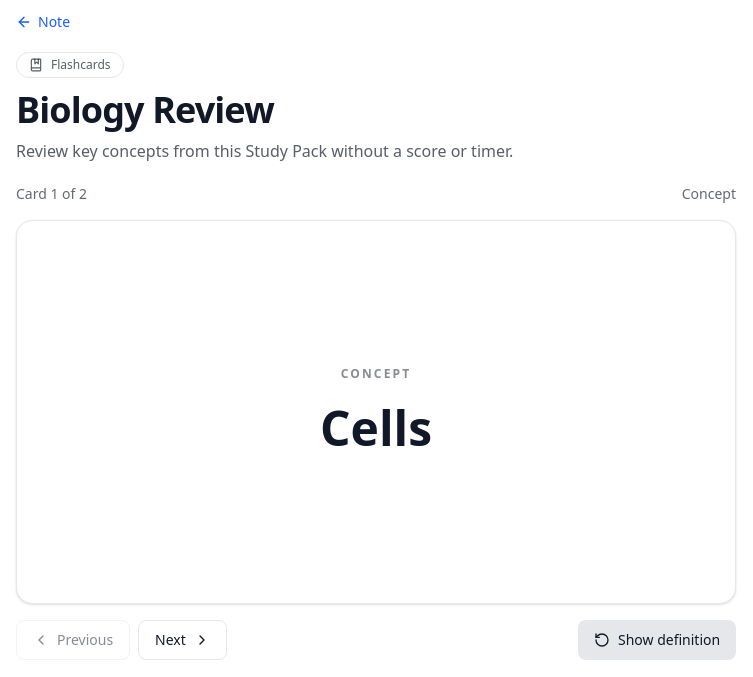
Test: FlashcardsPageClient › shows a per-card fallback when no quiz explanation matches the concept
Check: the text "Cells" is shown, box [320,398,432,458]
Click the button "Next".
click(182, 640)  # box [138,620,227,660]
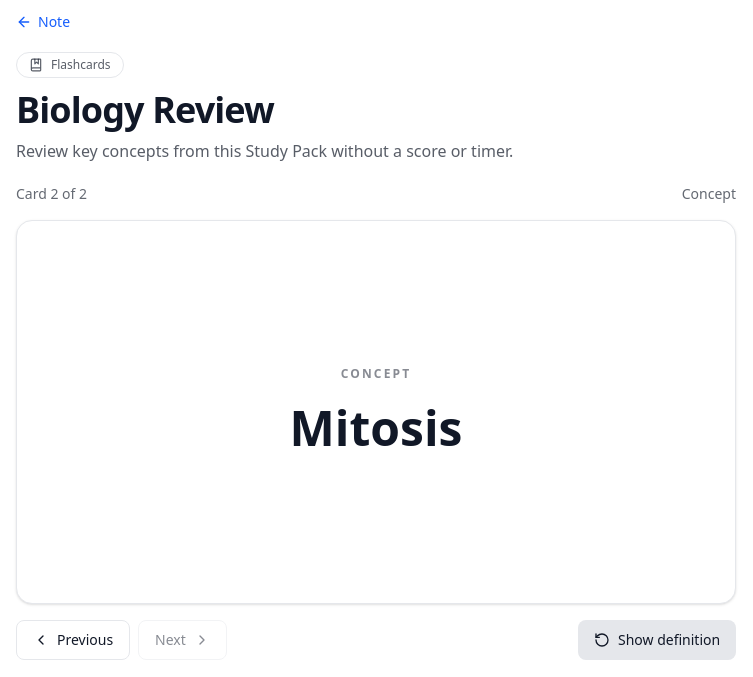
Check: the text "Mitosis" is shown, box [290,398,462,458]
Click the button with aria-label "Flip to definition".
click(59, 412)  # box [16,220,736,604]
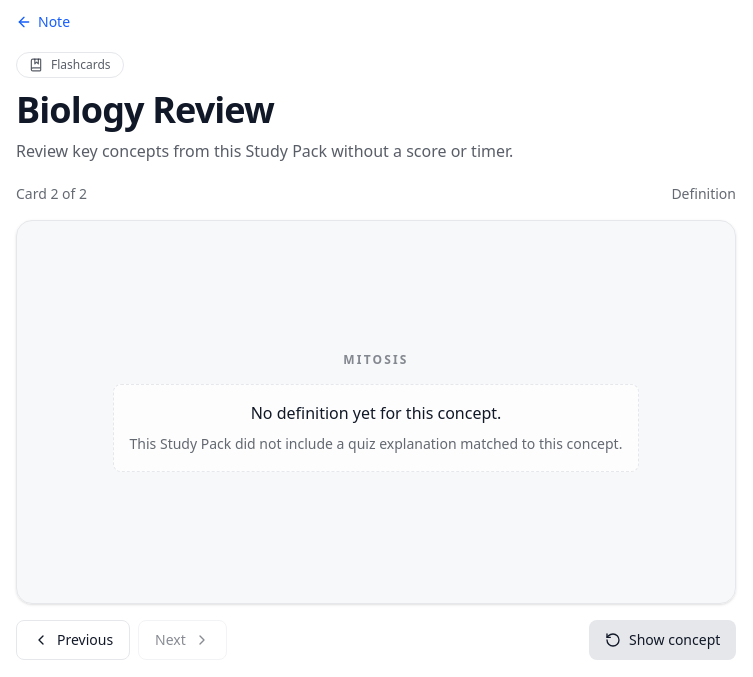
Check: the text "No definition yet for this concept." is shown, box [251,402,501,424]
Check: the text "This Study Pack did not include a quiz explanation matched to this concept." is shown, box [130,433,622,455]
